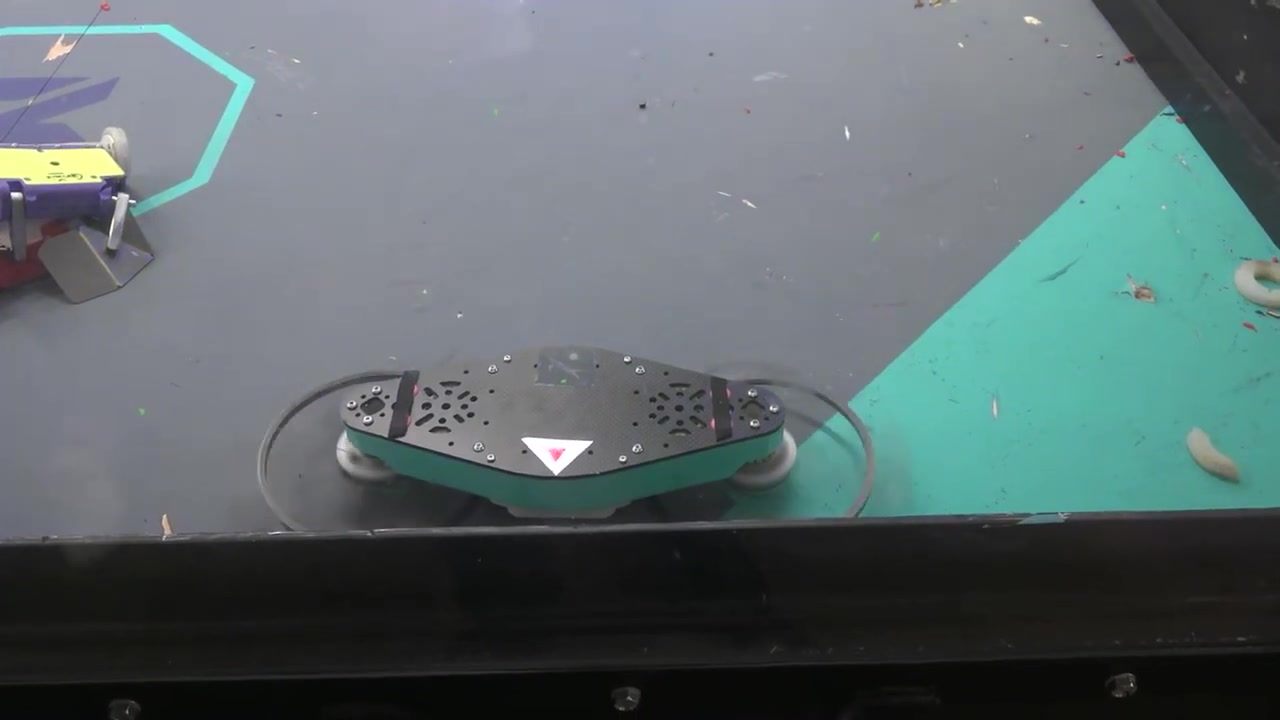combatbot: (255, 347, 873, 532), (0, 123, 155, 303)
debris: (1229, 247, 1280, 341), (1182, 428, 1244, 484), (1121, 278, 1158, 303)
